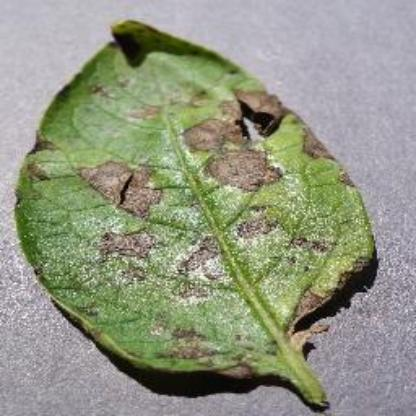Early-Blight: (14, 14, 378, 410)
